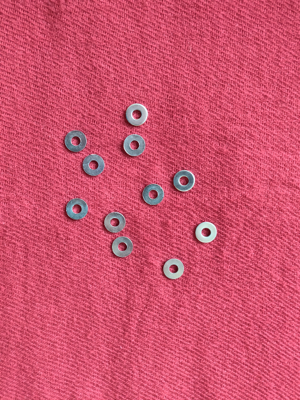circle: (122, 132, 146, 160), (126, 103, 150, 130), (64, 128, 88, 155), (103, 208, 127, 235), (111, 234, 135, 261), (141, 181, 165, 208), (83, 153, 106, 180), (66, 196, 89, 223), (162, 256, 185, 283), (173, 167, 196, 194), (195, 219, 218, 246)
